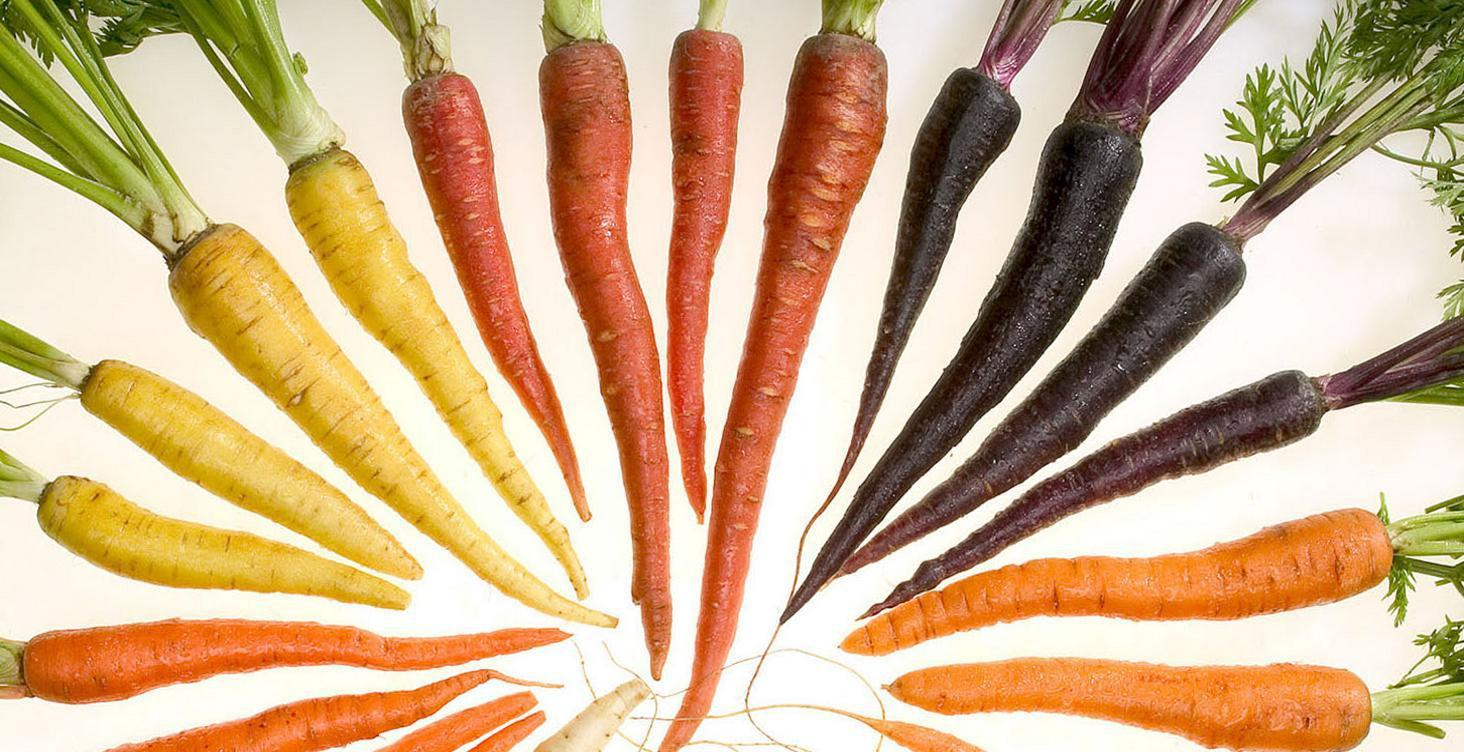carrot: (0, 600, 550, 752), (835, 556, 1464, 661), (1205, 500, 1464, 752), (877, 660, 1464, 752), (0, 607, 574, 682), (120, 714, 515, 752), (794, 682, 991, 752)
